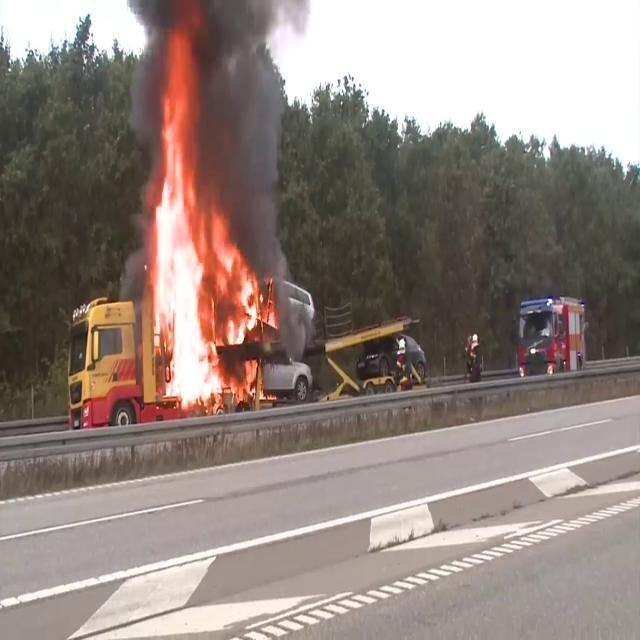Fire: (143, 46, 275, 411)
Smoke: (195, 0, 297, 284)
